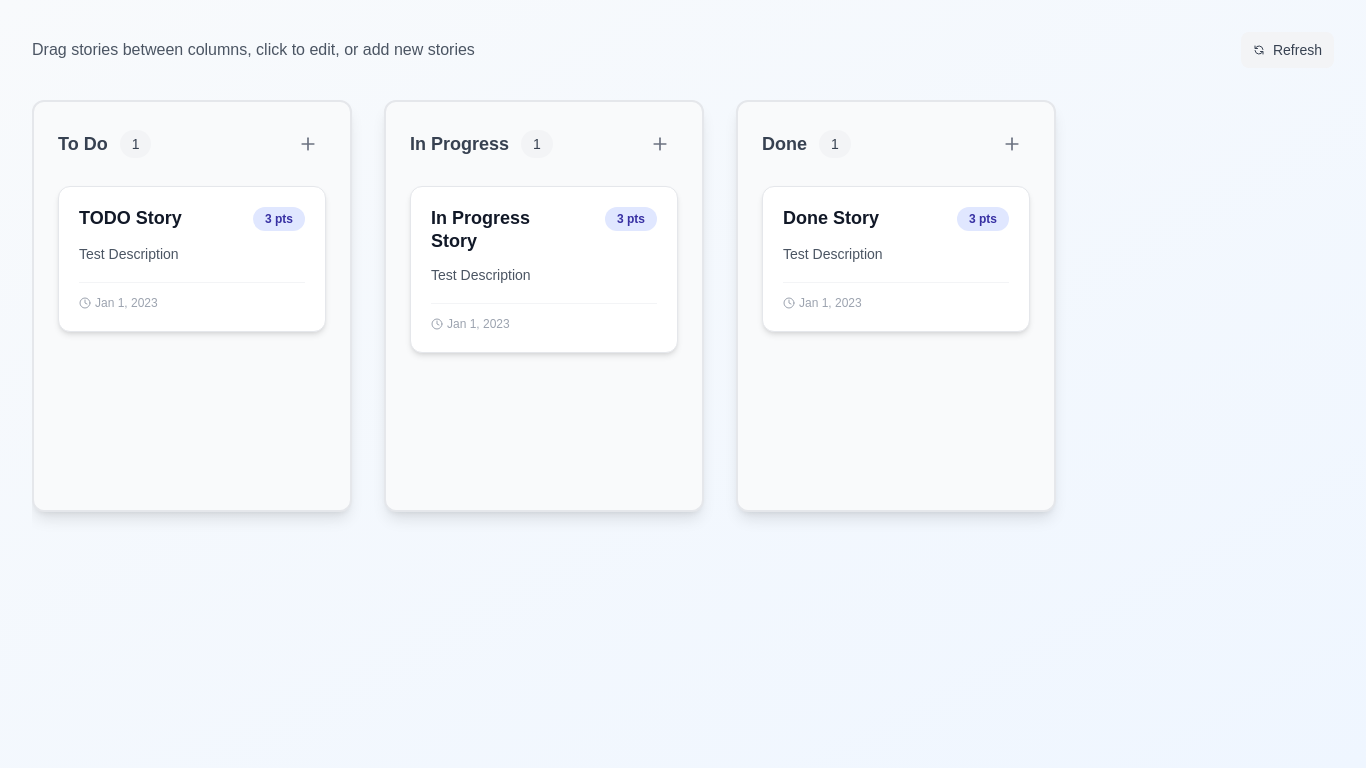
Board › Story Creation › should remove draft story when modal is closed without saving
The width and height of the screenshot is (1366, 768).
Expected: the heading "TODO Story" is shown, [79,208,182,228]
Click the button titled "Add new story" in the row of "To Do": (308, 144) [290,126,326,162]
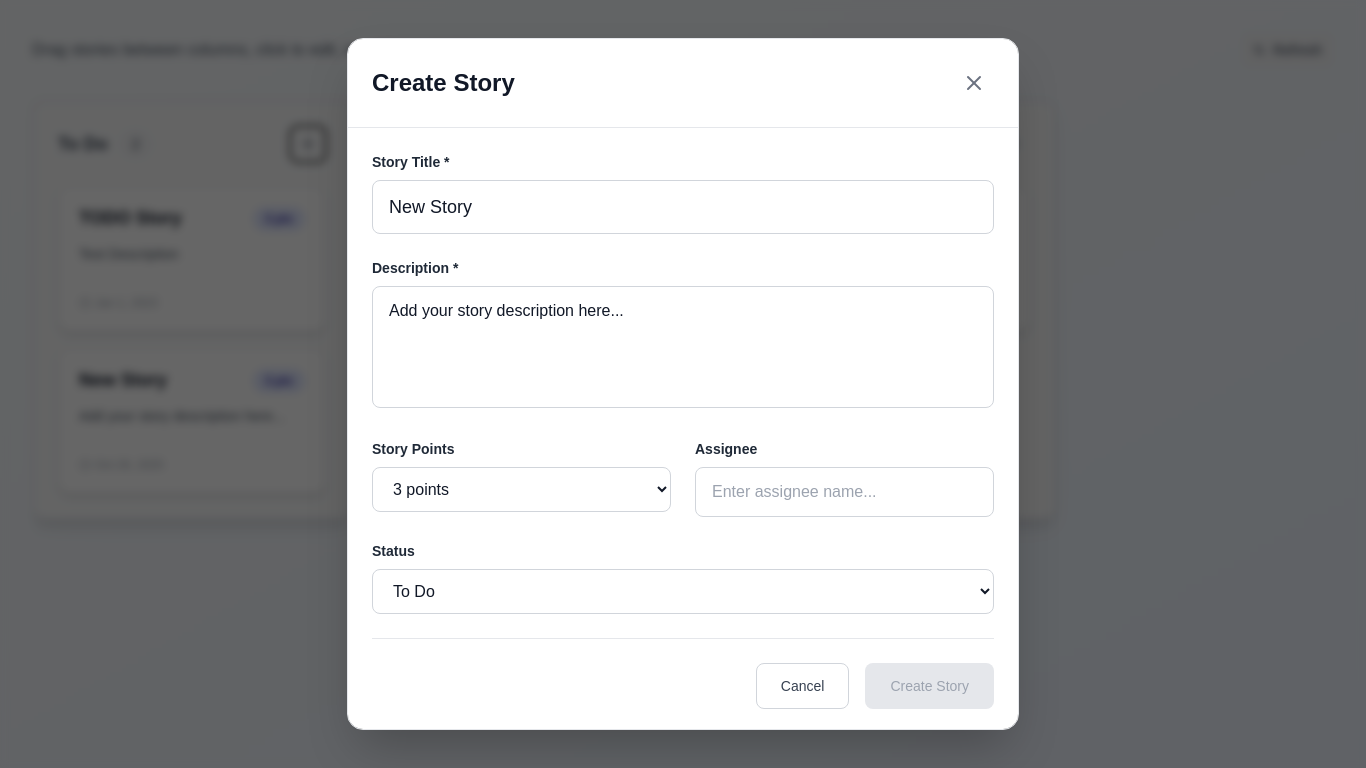
Expected: the heading "Create Story" is shown, [372,67,515,99]
// Close without saving
Click the button named "Close modal": (974, 83) [954,63,994,103]
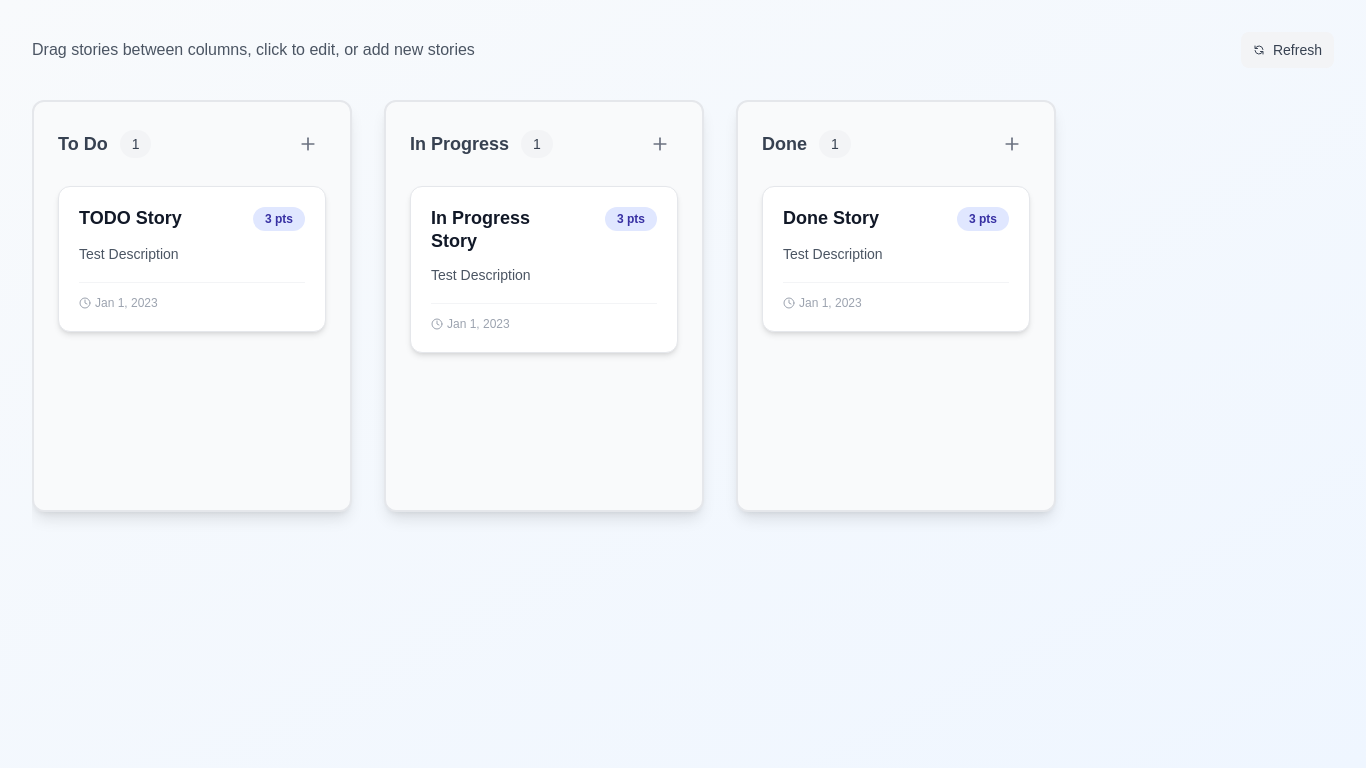
Expected: the heading "New Story" is gone
